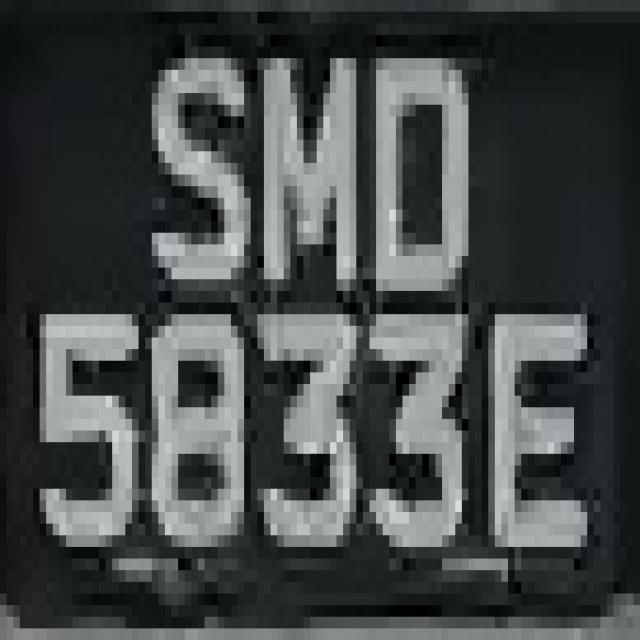3: (238, 279, 356, 570), (363, 279, 475, 570)
5: (33, 267, 125, 558)
8: (145, 279, 251, 547)
D: (363, 35, 482, 314)
E: (475, 268, 600, 582)
M: (250, 23, 382, 303)
S: (118, 11, 250, 302)
